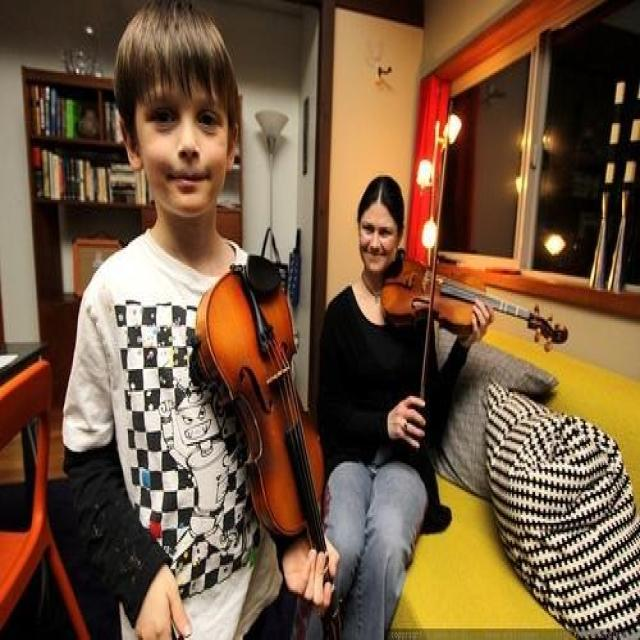violin: (195, 253, 351, 632), (375, 253, 571, 353)
